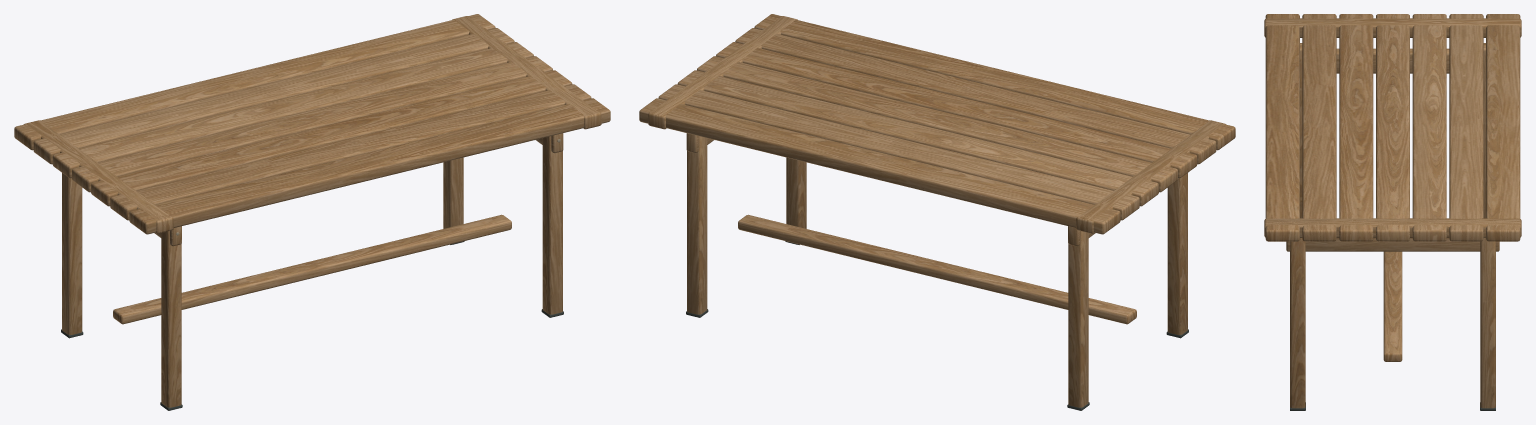
File: patio-dining-table.glb
3 views of the same model, side by side, from view 1: azimuth 30°, elevation 25°; view 2: azimuth 150°, elevation 25°; view 3: azimuth 270°, elevation 25° (orthographic). The views are drawn at different scales.
Parts seen in each view (by area): view 1: catalog_surface_RealismUV; view 2: catalog_surface_RealismUV; view 3: catalog_surface_RealismUV.
Part boxes in pixels (left/top/right/bottom): catalog_surface_RealismUV: left=14, top=14, right=610, bottom=410; catalog_surface_RealismUV: left=639, top=14, right=1235, bottom=410; catalog_surface_RealismUV: left=1264, top=14, right=1521, bottom=410.
Bounding box in the file's own units: 1.8 × 0.76 × 0.9.
Materials: 3 (1 with a texture image).
